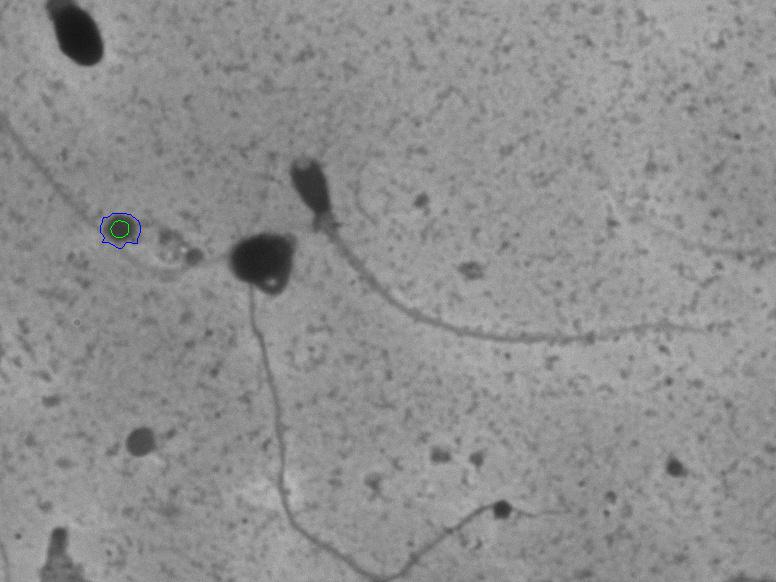Abnormal: (278, 143, 753, 348), (193, 211, 306, 309)
